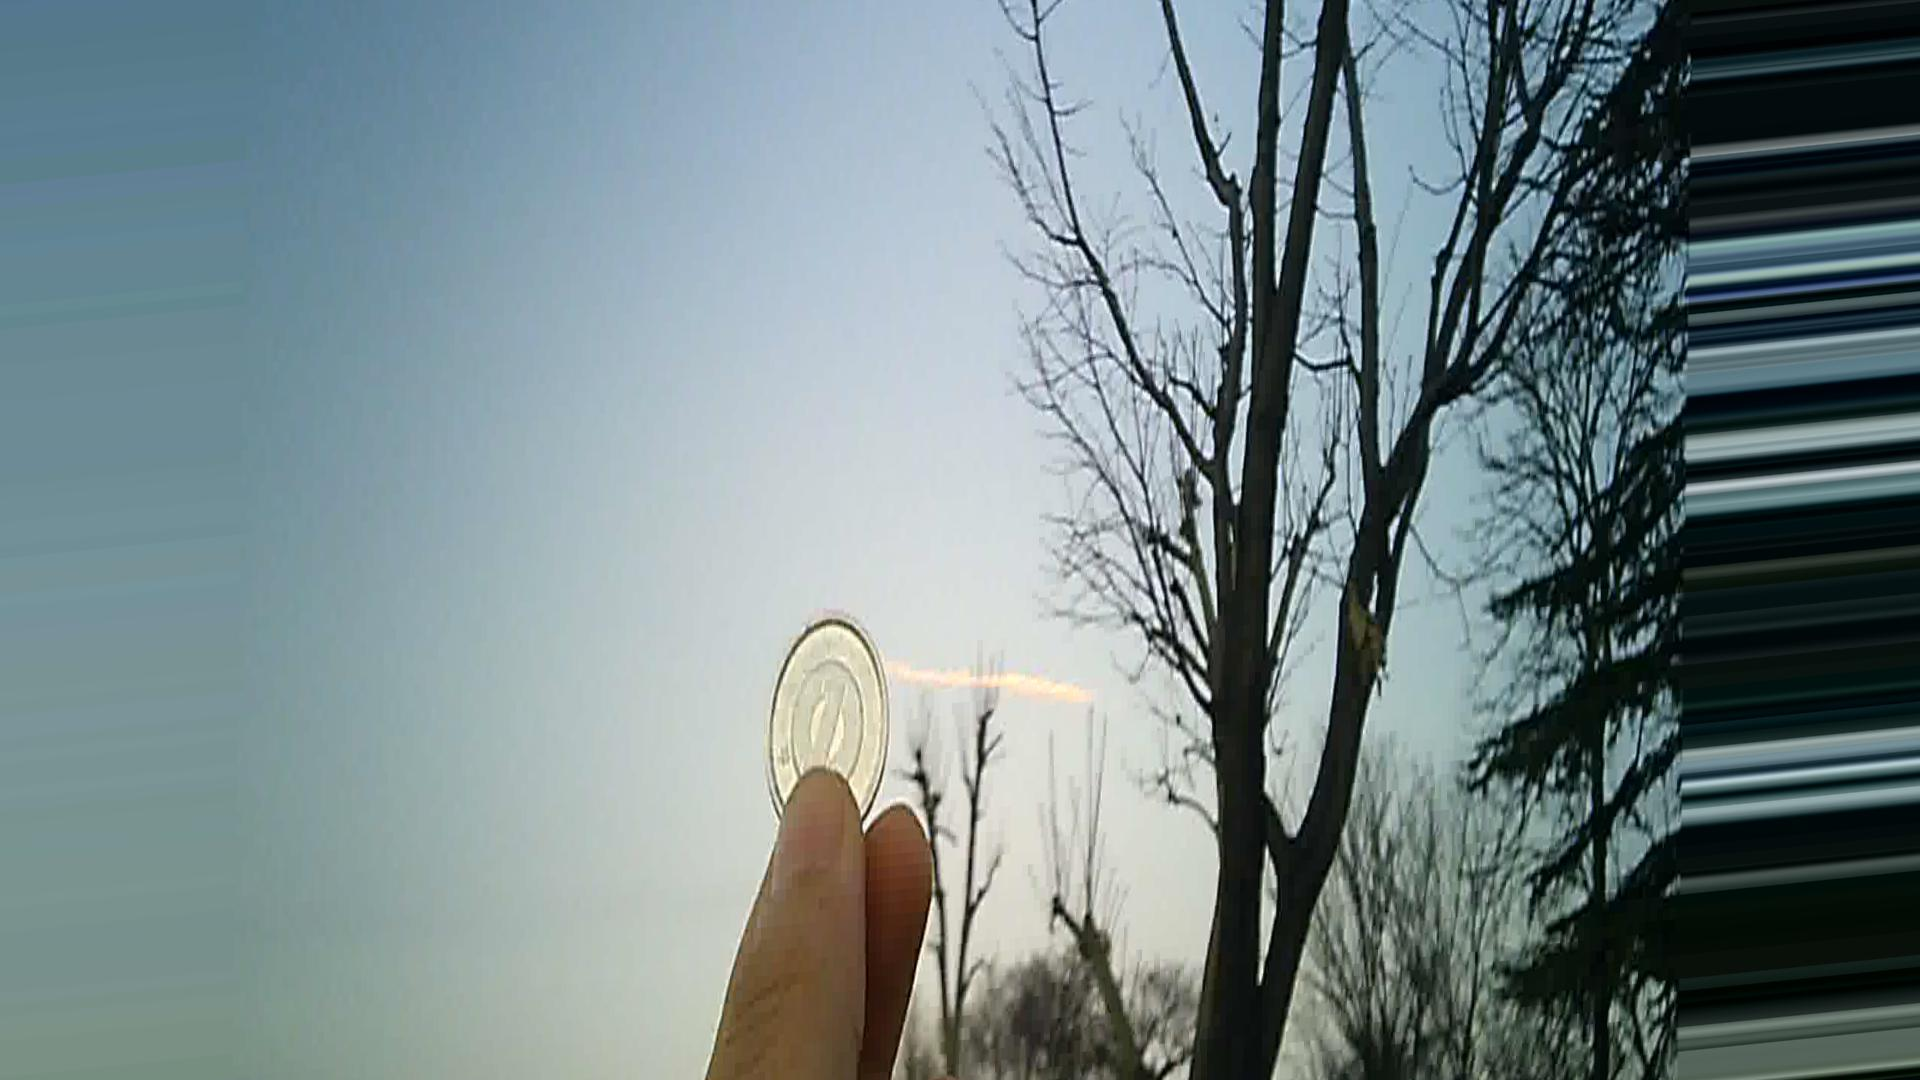1 Yen: (749, 612, 901, 829)
